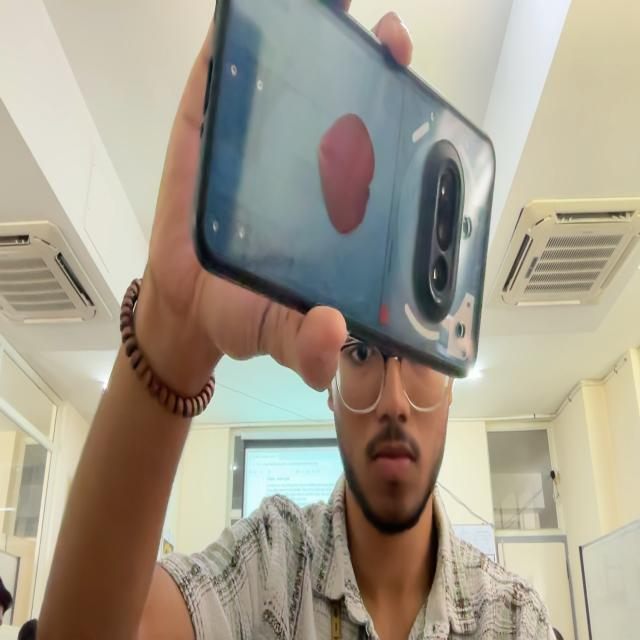Useful: (193, 0, 495, 376)
